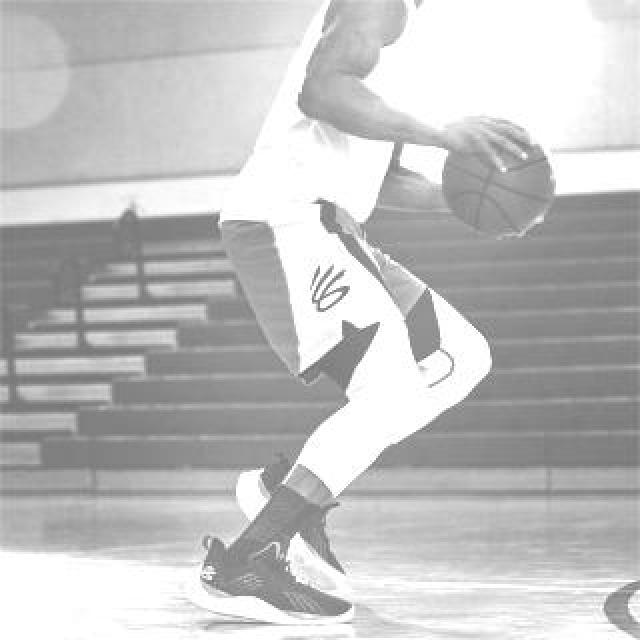shoe: (185, 531, 355, 625), (237, 453, 345, 589)
